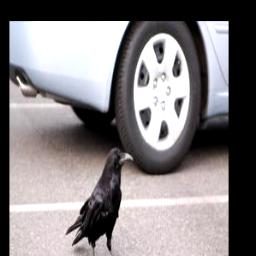Crow: (64, 143, 133, 256)
